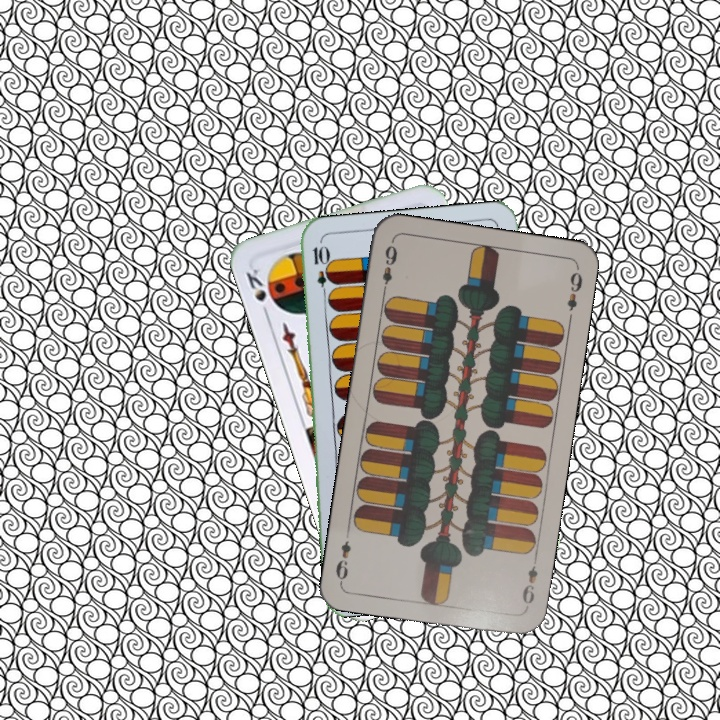E10: (309, 242, 331, 301)
E9: (518, 553, 541, 611), (378, 241, 400, 297)
SK: (242, 264, 279, 321)
